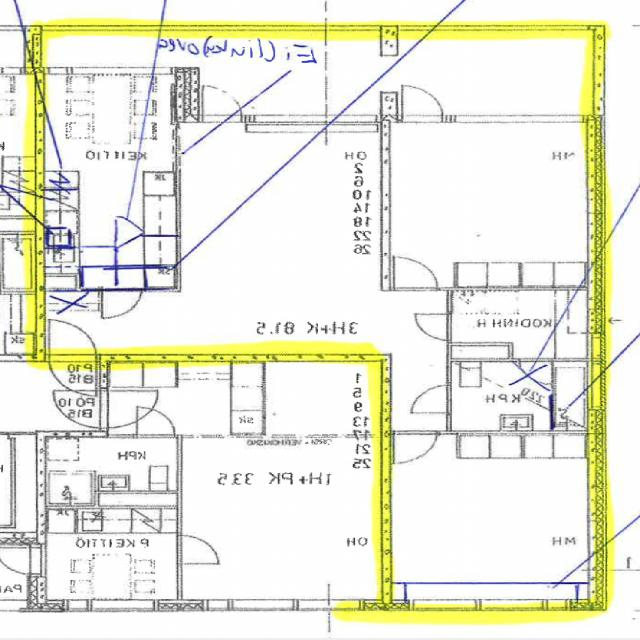door: (50, 354, 97, 396), (50, 320, 97, 361), (394, 431, 438, 465), (395, 256, 438, 290), (403, 87, 443, 122), (204, 87, 242, 122), (410, 384, 452, 412), (412, 314, 452, 340)
